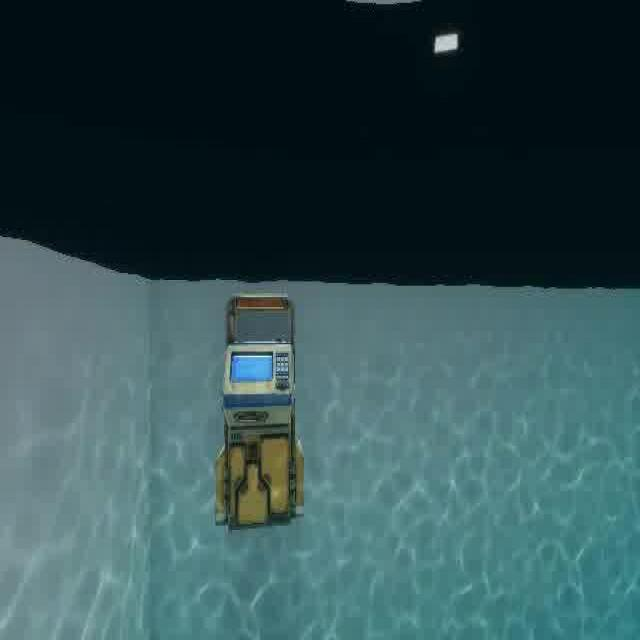Control Panel: (211, 286, 306, 541)
